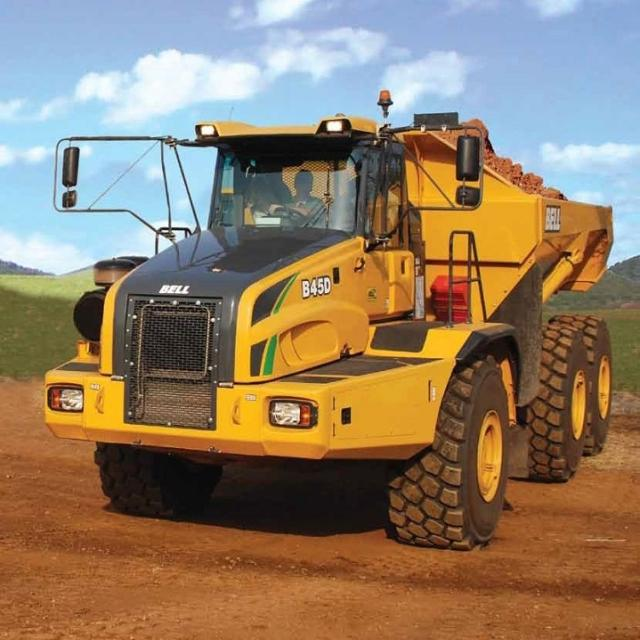dump_truck: (43, 95, 628, 564)
